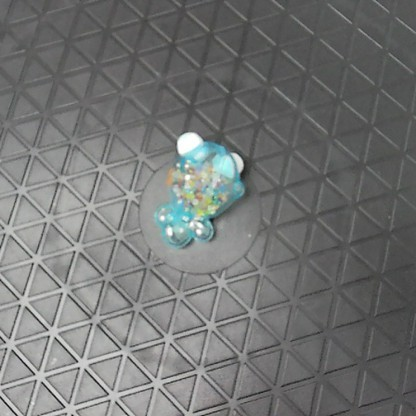bluefish: (153, 124, 249, 253)
